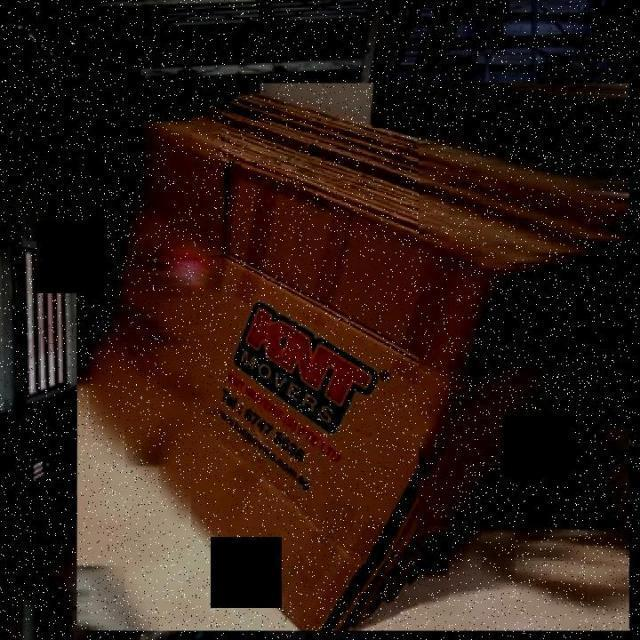box: (68, 76, 640, 640)
